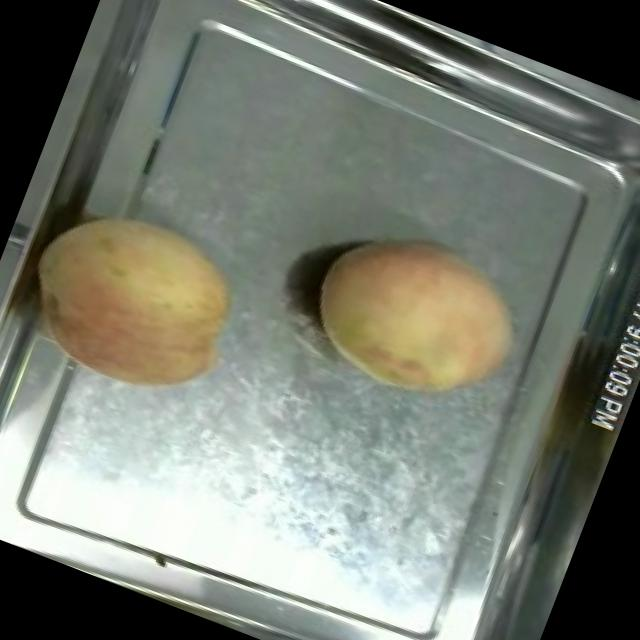Fruit: (0, 175, 273, 427), (288, 206, 545, 432)
